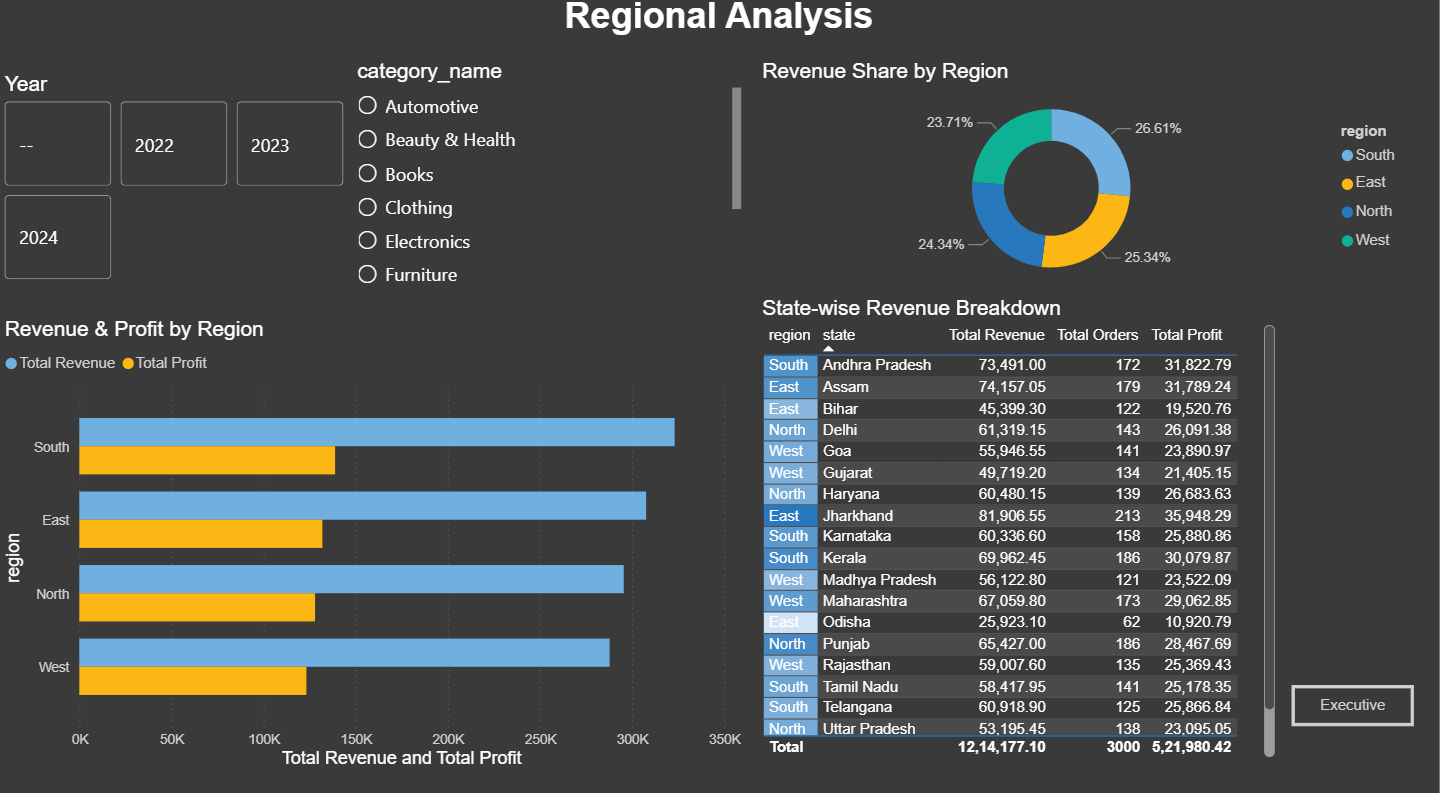

The dashboard page shown, as its layout file describes it:
{"tool":"powerbi","page":{"name":"Regional Analysis","canvas":[1280,720],"ordinal":1},"visuals":[{"type":"clusteredBarChart","title":"Revenue & Profit by Region ","fields":{"Category":["retail_db vw_sales_fact.region"],"Y":["_Measures.Total Revenue","_Measures.Total Profit"]},"box":[0,290.8,664.7,405.4],"z":0},{"type":"tableEx","title":"State-wise Revenue Breakdown","fields":{"Values":["retail_db vw_sales_fact.region","retail_db vw_sales_fact.state","_Measures.Total Revenue","_Measures.Total Orders","_Measures.Total Profit"]},"box":[673.3,272.2,465.6,414.4],"z":1000},{"type":"donutChart","title":"Revenue Share by Region","fields":{"Category":["retail_db vw_sales_fact.region"],"Y":["_Measures.Total Revenue"]},"box":[673.3,61.1,584.4,210],"z":2000},{"type":"advancedSlicerVisual","fields":{"Values":["DateTable.Year"]},"box":[0,73.6,313.7,189.4],"z":3000},{"type":"listSlicer","fields":{"Values":["retail_db vw_sales_fact.category_name"]},"box":[313.7,61.5,351.1,211.1],"z":4000},{"type":"textbox","box":[0,0,1280,45.8],"z":5000},{"type":"actionButton","box":[1148.9,617.8,108.9,36.7],"z":6000}]}

Visuals, with their boxes in screenshot pixels (x1, y1, x2, y2), scaled from the page's 1280x720 canvas onto the 1440x793 screenshot:
"Revenue & Profit by Region " clusteredBarChart: 0 320 748 767
"State-wise Revenue Breakdown" tableEx: 757 300 1281 756
"Revenue Share by Region" donutChart: 757 67 1415 299
advancedSlicerVisual - DateTable.Year: 0 81 353 290
listSlicer - retail_db vw_sales_fact.category_name: 353 68 748 300
textbox: 0 0 1439 50
actionButton: 1293 680 1415 721
